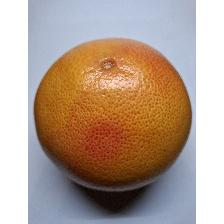Pampelmuse: (33, 37, 193, 195)
